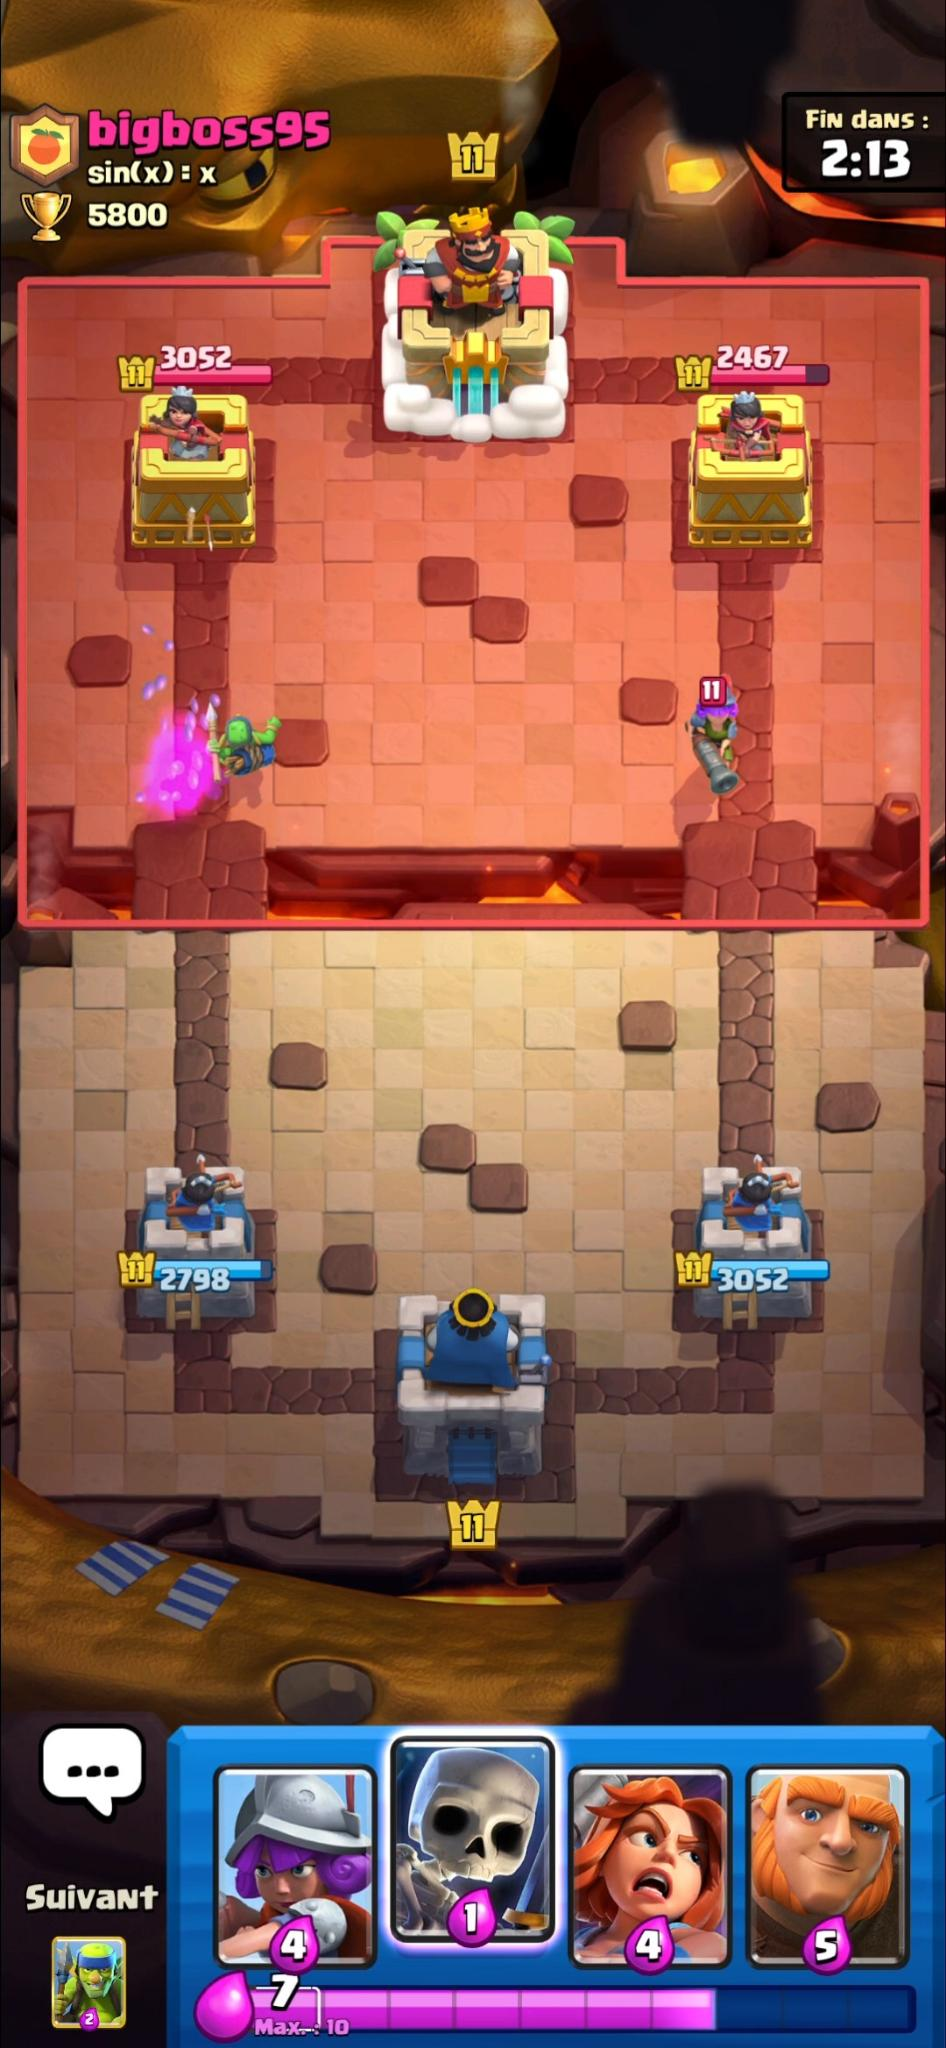gobelin_lances: (201, 697, 287, 784)
mousquetaire: (693, 675, 755, 806)
